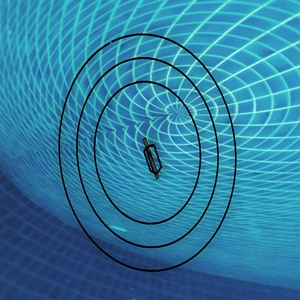circle: (57, 28, 246, 284)
submarine: (141, 141, 166, 176)
